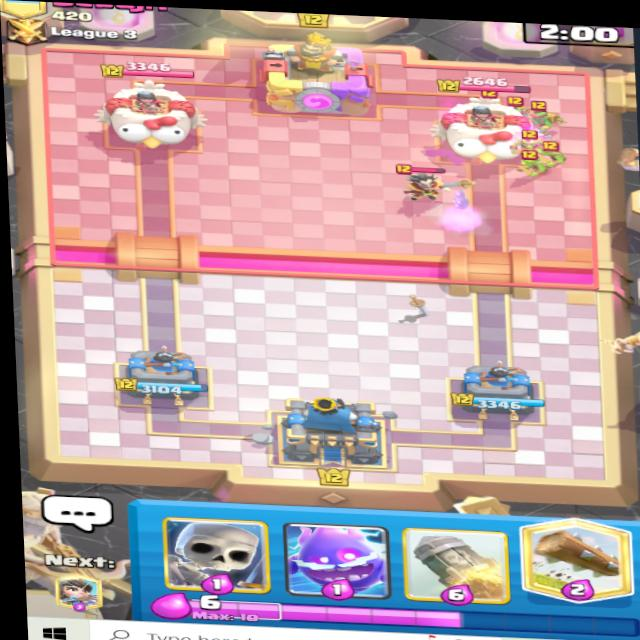electro-wizard: (377, 163, 460, 208)
goblin: (516, 147, 558, 184), (516, 126, 549, 158), (538, 138, 564, 164)
spear-goblin: (529, 103, 558, 127)
